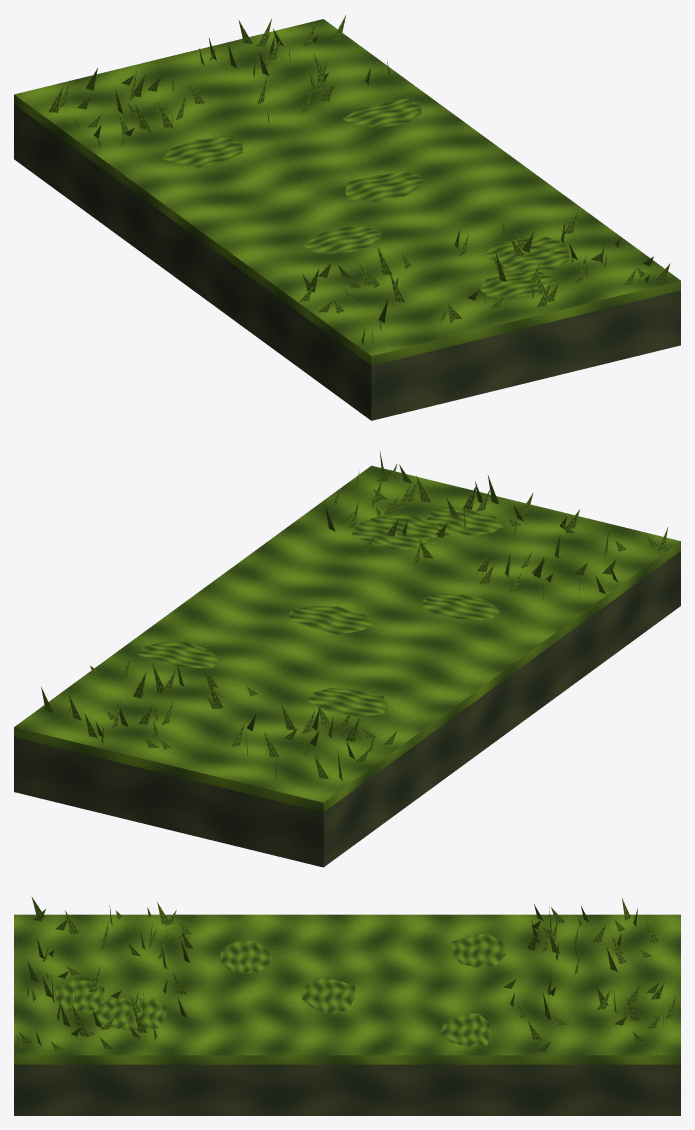
File: river-grass-bank.glb
The picture shows the model from 3 angles, top to bottom: view 1: azimuth 30°, elevation 25°; view 2: azimuth 150°, elevation 25°; view 3: azimuth 270°, elevation 25°; orthographic projection. The views are drawn at different scales.
Parts seen in each view (by area): view 1: river-grass-bank_kit-moss, river-grass-bank_kit-earth; view 2: river-grass-bank_kit-moss, river-grass-bank_kit-earth; view 3: river-grass-bank_kit-moss, river-grass-bank_kit-earth.
Part boxes in pixels (x1,y1,x2,y2): river-grass-bank_kit-moss: [14, 14, 680, 365]; river-grass-bank_kit-earth: [14, 104, 680, 420]; river-grass-bank_kit-moss: [14, 451, 680, 812]; river-grass-bank_kit-earth: [14, 551, 680, 867]; river-grass-bank_kit-moss: [14, 896, 680, 1064]; river-grass-bank_kit-earth: [14, 1064, 680, 1115].
Size of the model in its own units: 2 by 0.5794 by 4.
Materials: 2 (2 with a texture image).
